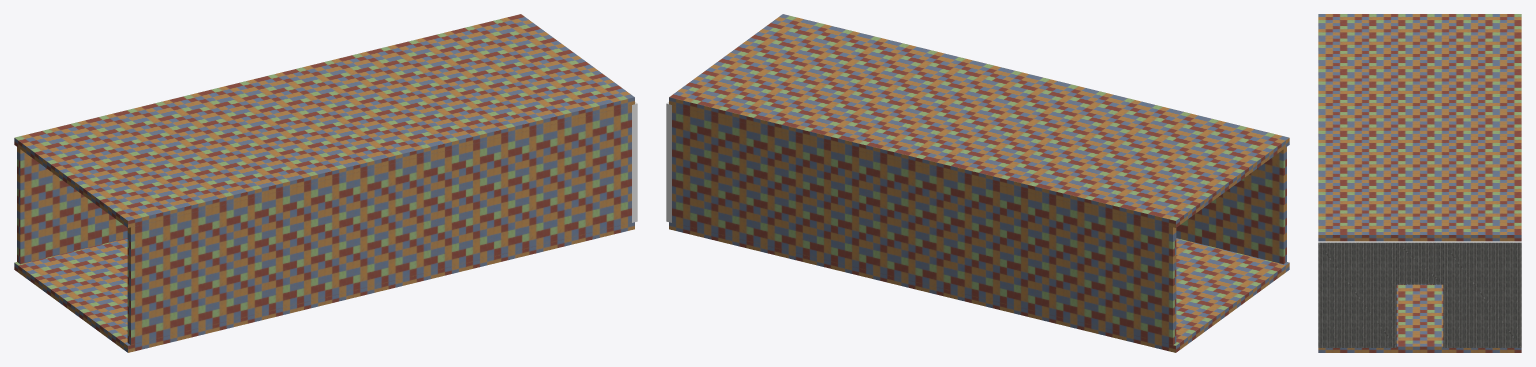
Rendered from SILENT_Room_03_Structure.fbx.
The picture shows the model from 3 angles, left to right: view 1: azimuth 30°, elevation 25°; view 2: azimuth 150°, elevation 25°; view 3: azimuth 270°, elevation 25°; orthographic projection. The views are drawn at different scales.
Visible parts, largest first — view 1: Room_03_A_Structure, Ceiling.002; view 2: Room_03_A_Structure, Ceiling.002; view 3: Ceiling.002, Room_03_A_Structure.
Boxes of the visible parts, x1,y1,x2,y2 form: Room_03_A_Structure: (14, 102, 637, 352); Ceiling.002: (14, 14, 634, 227); Room_03_A_Structure: (666, 102, 1289, 352); Ceiling.002: (669, 14, 1289, 227); Ceiling.002: (1318, 14, 1521, 241); Room_03_A_Structure: (1318, 241, 1521, 352).
Size of the model in its own units: 18.1 by 4.48 by 7.
Materials: 3 (2 with a texture image).
